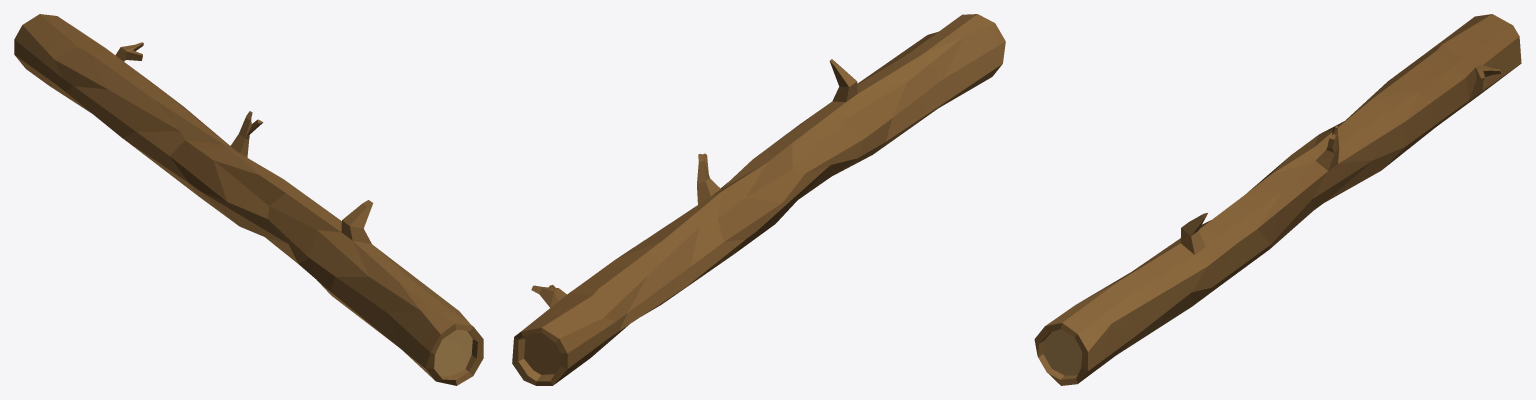
The model's file is log_10.obj.
The picture shows the model from 3 angles, left to right: view 1: azimuth 30°, elevation 25°; view 2: azimuth 150°, elevation 25°; view 3: azimuth 330°, elevation 25°; orthographic projection. The views are drawn at different scales.
Visible parts, largest first — view 1: log_10_Material; view 2: log_10_Material; view 3: log_10_Material.
Boxes of the visible parts, x1,y1,x2,y2 form: log_10_Material: [14, 14, 483, 385]; log_10_Material: [512, 14, 1005, 385]; log_10_Material: [1034, 14, 1521, 385].
Size of the model in its own units: 0.1051 by 0.1051 by 0.8662.
